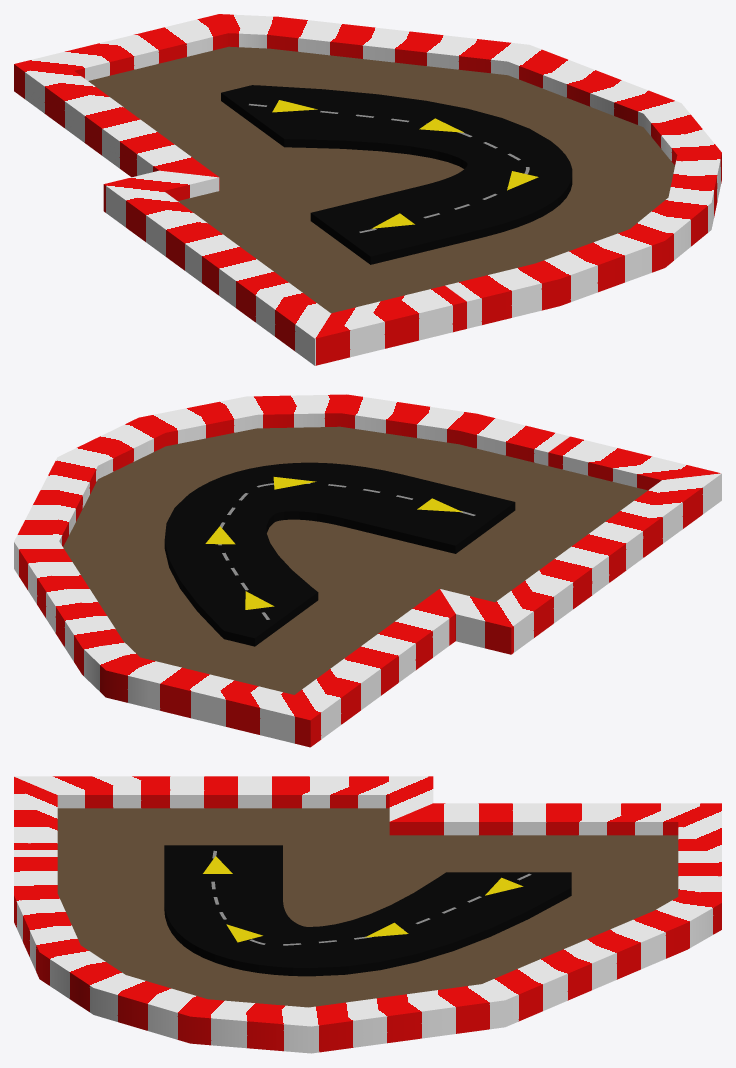
The model's file is dal.FBX.
3 views of the same model, one above another, from view 1: azimuth 30°, elevation 25°; view 2: azimuth 150°, elevation 25°; view 3: azimuth 270°, elevation 25° (orthographic).
Visible parts, largest first — view 1: dal_coll, dal_floor, dal; view 2: dal_coll, dal_floor, dal; view 3: dal_coll, dal_floor, dal.
Boxes of the visible parts, bbox=[...] form: dal_coll: bbox=[14, 14, 721, 365]; dal_floor: bbox=[88, 46, 674, 313]; dal: bbox=[221, 85, 572, 264]; dal_coll: bbox=[14, 394, 721, 747]; dal_floor: bbox=[63, 426, 647, 694]; dal: bbox=[164, 462, 515, 646]; dal_coll: bbox=[14, 776, 721, 1053]; dal_floor: bbox=[57, 808, 678, 1007]; dal: bbox=[164, 845, 571, 976].
Bounding box in the file's own units: 651 × 32.77 × 778.
